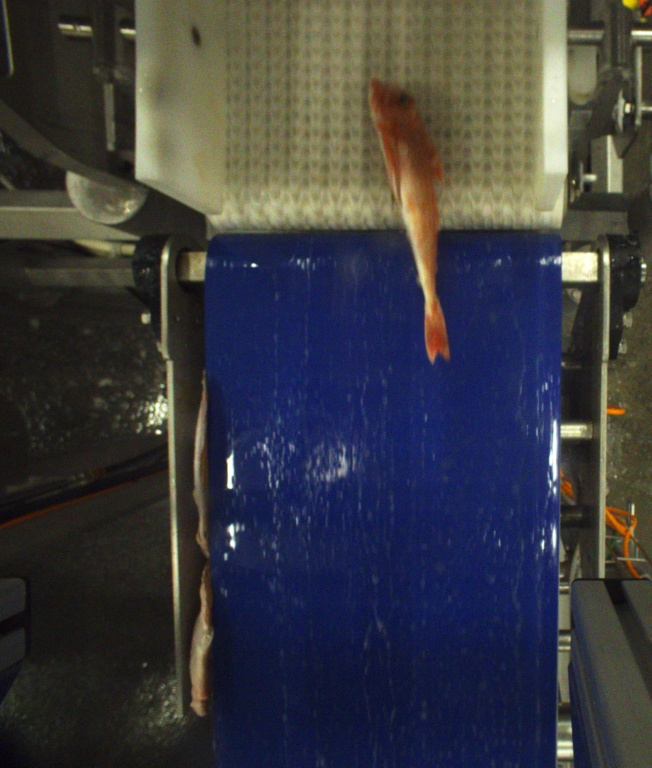GUU: (367, 78, 453, 367)
